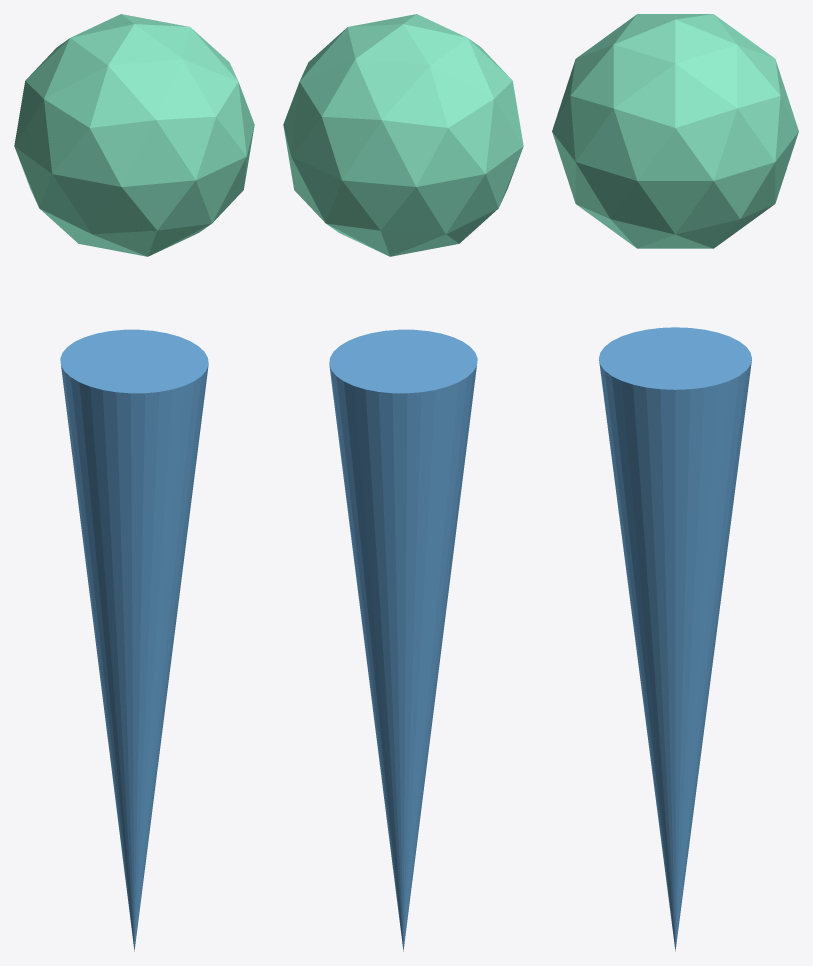
File: poi.fbx
3 renders of one model, left to right at view 1: azimuth 30°, elevation 25°; view 2: azimuth 150°, elevation 25°; view 3: azimuth 270°, elevation 25°, orthographic.
Visible parts, largest first — view 1: Cone, Icosphere; view 2: Cone, Icosphere; view 3: Cone, Icosphere.
Boxes of the visible parts, x1,y1,x2,y2 form: Cone: [60, 329, 208, 951]; Icosphere: [14, 14, 254, 256]; Cone: [329, 329, 477, 951]; Icosphere: [283, 14, 523, 256]; Cone: [599, 327, 751, 951]; Icosphere: [552, 14, 798, 248].
Bounding box in the file's own units: 71.76 × 314 × 75.45.
